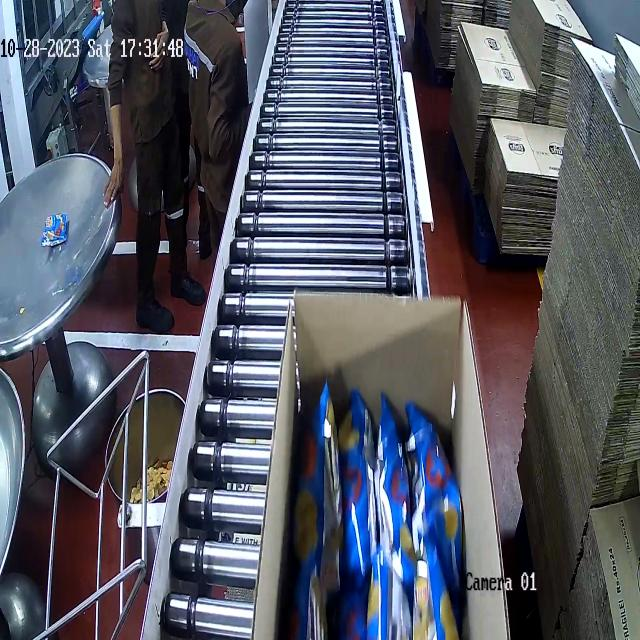PAPRIKA: (296, 383, 490, 640)
